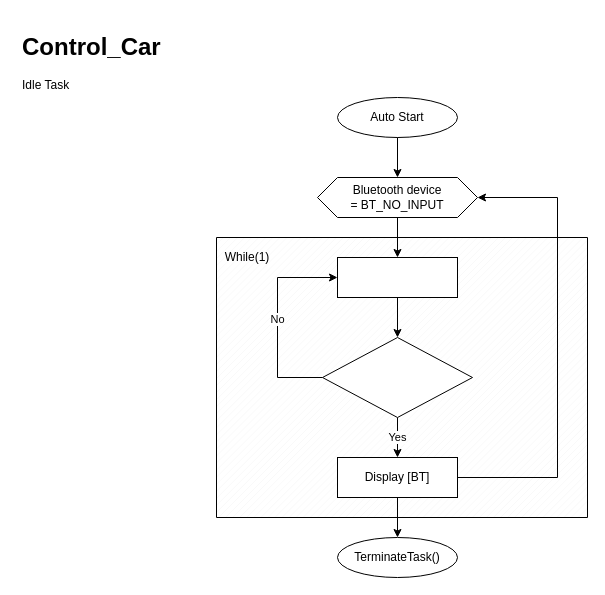
The diagram is 605 pixels wide and 595 high, and some of its shapes have lost their labels. The centre of each missing label's shape, as x and y in pixels:
Bluetooth device 연결준비: (x=397, y=377)
NXT device 를 slave로 init: (x=397, y=277)
